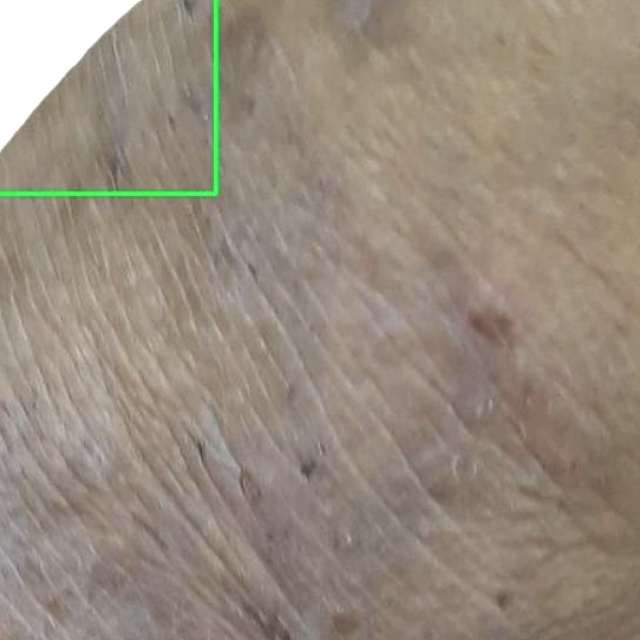Contact Dermatitis: (0, 0, 215, 193)
